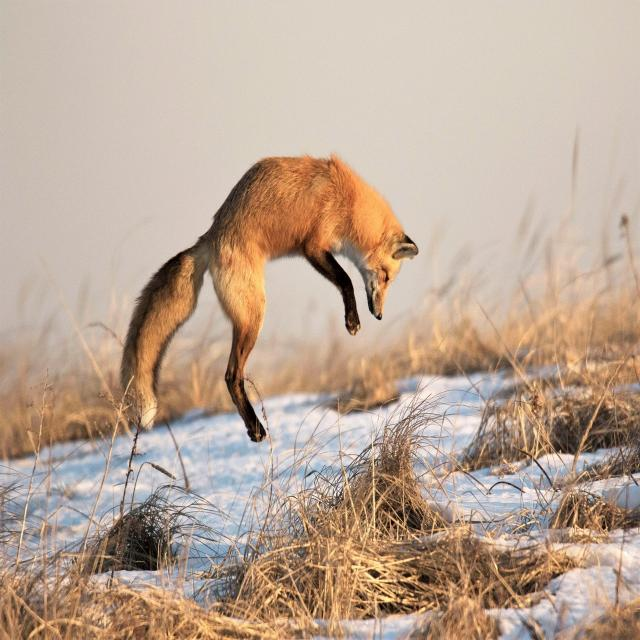Fox: (118, 153, 417, 444)
